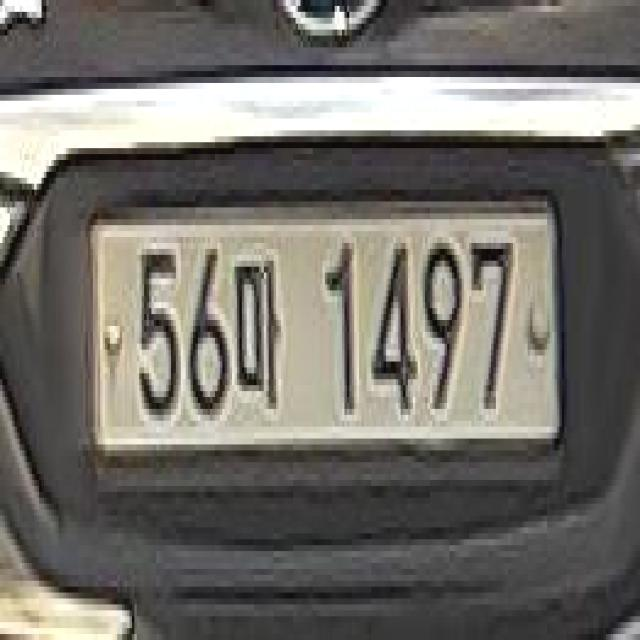illegal_plate: (91, 186, 561, 495)
